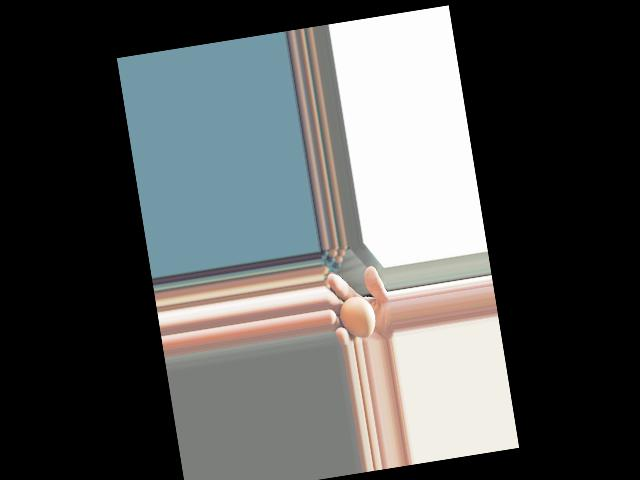egg: (336, 294, 377, 342)
